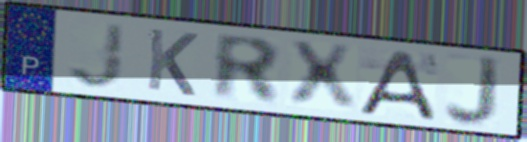A: (353, 49, 439, 123)
J: (441, 53, 505, 130), (65, 20, 128, 91)
K: (143, 25, 201, 99)
R: (212, 30, 284, 107)
X: (285, 39, 360, 113)
